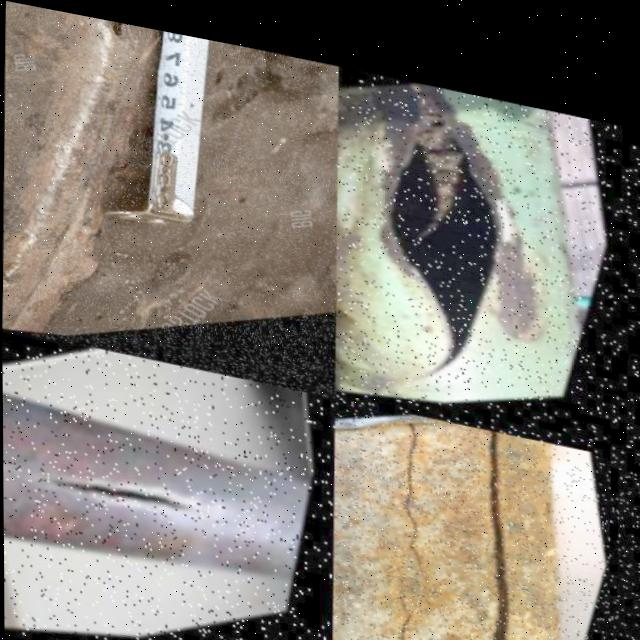crack: (392, 394, 616, 640), (360, 392, 488, 590), (359, 541, 479, 640), (42, 471, 213, 509)
hole: (102, 16, 168, 58)
rupture: (383, 69, 518, 371)
